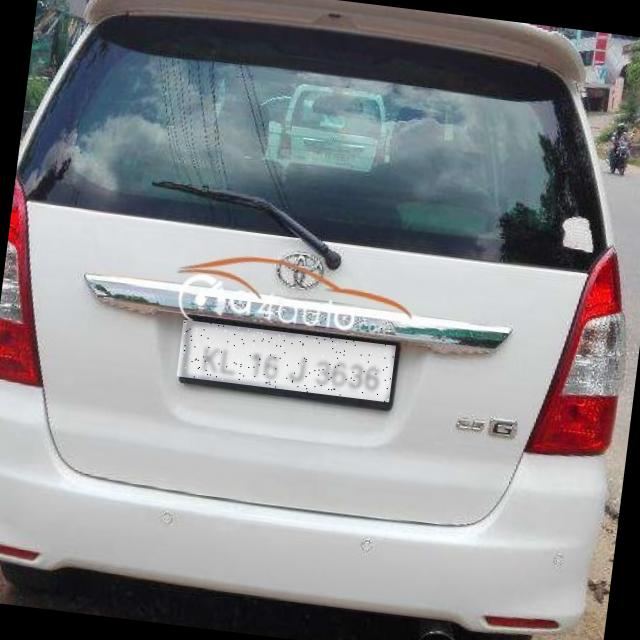Plate: (178, 320, 397, 403)
